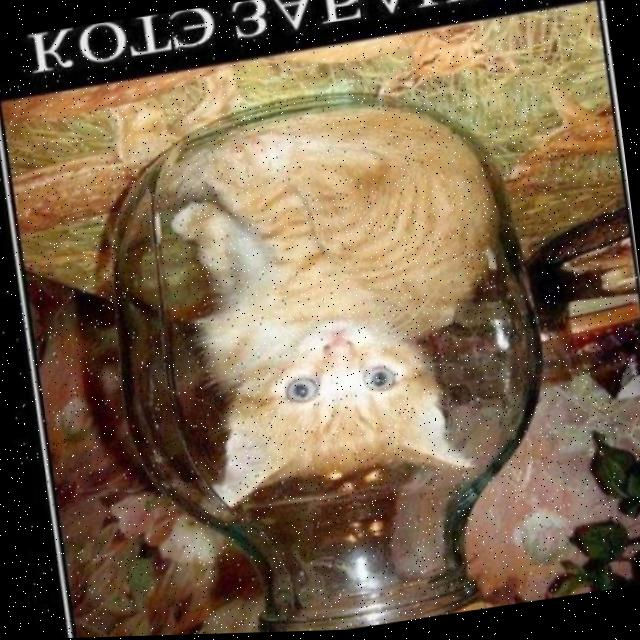Cats: (136, 92, 534, 544)
